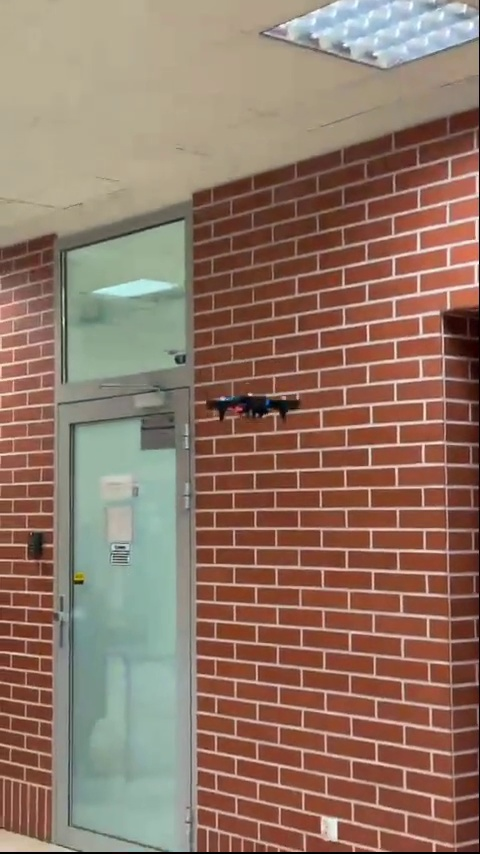drone: (205, 388, 300, 423)
